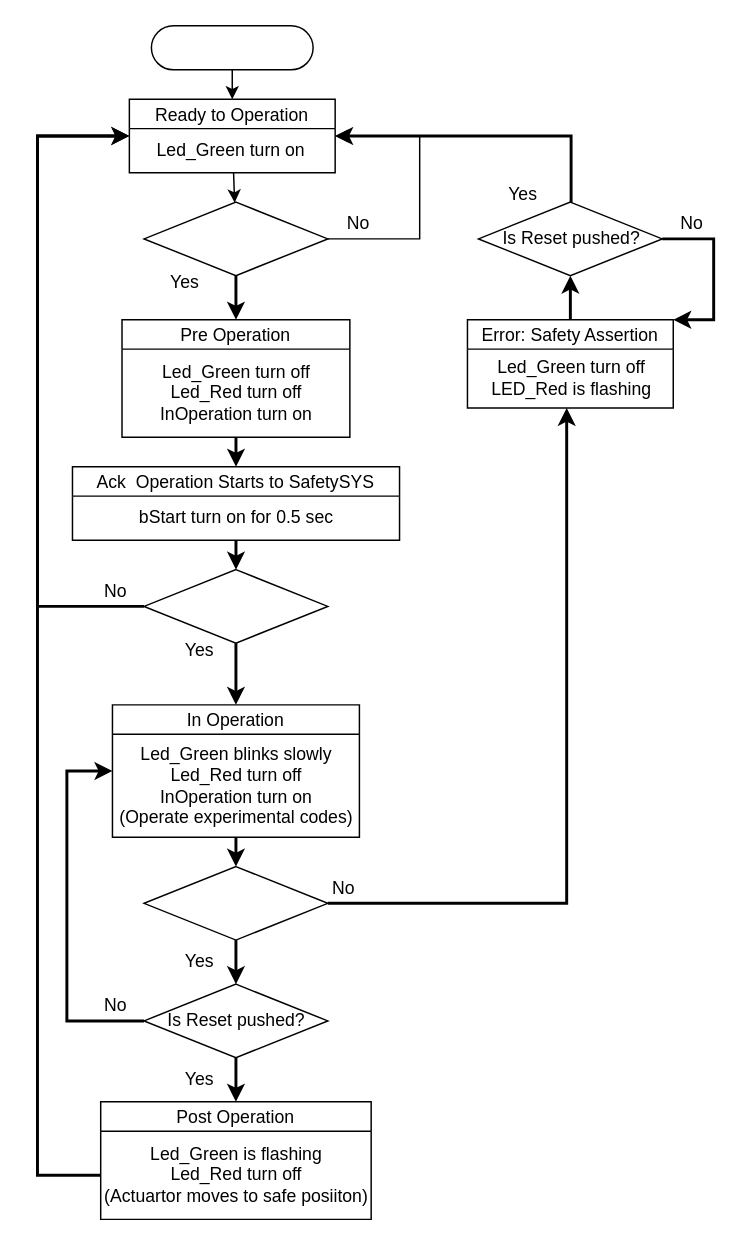
Image size: 751x1245. Some labels were removed from this diagram. Each missing label, with the centre of its shape:
Is _EMG on?: (x=235, y=902)
Is Enable on?: (x=235, y=605)
Is RUN pushed?: (x=235, y=238)
TwinCAT Start: (x=231, y=47)
